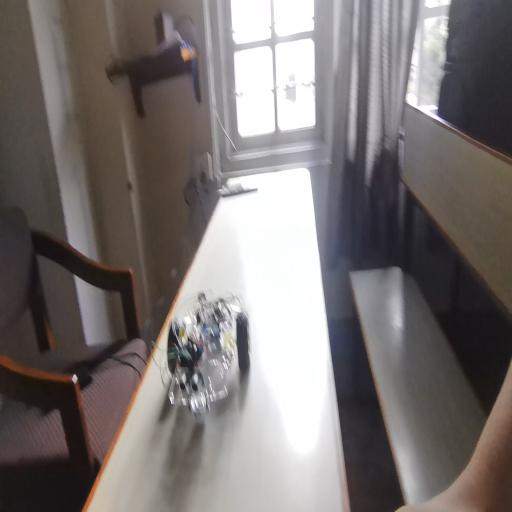car: (168, 259, 269, 454)
